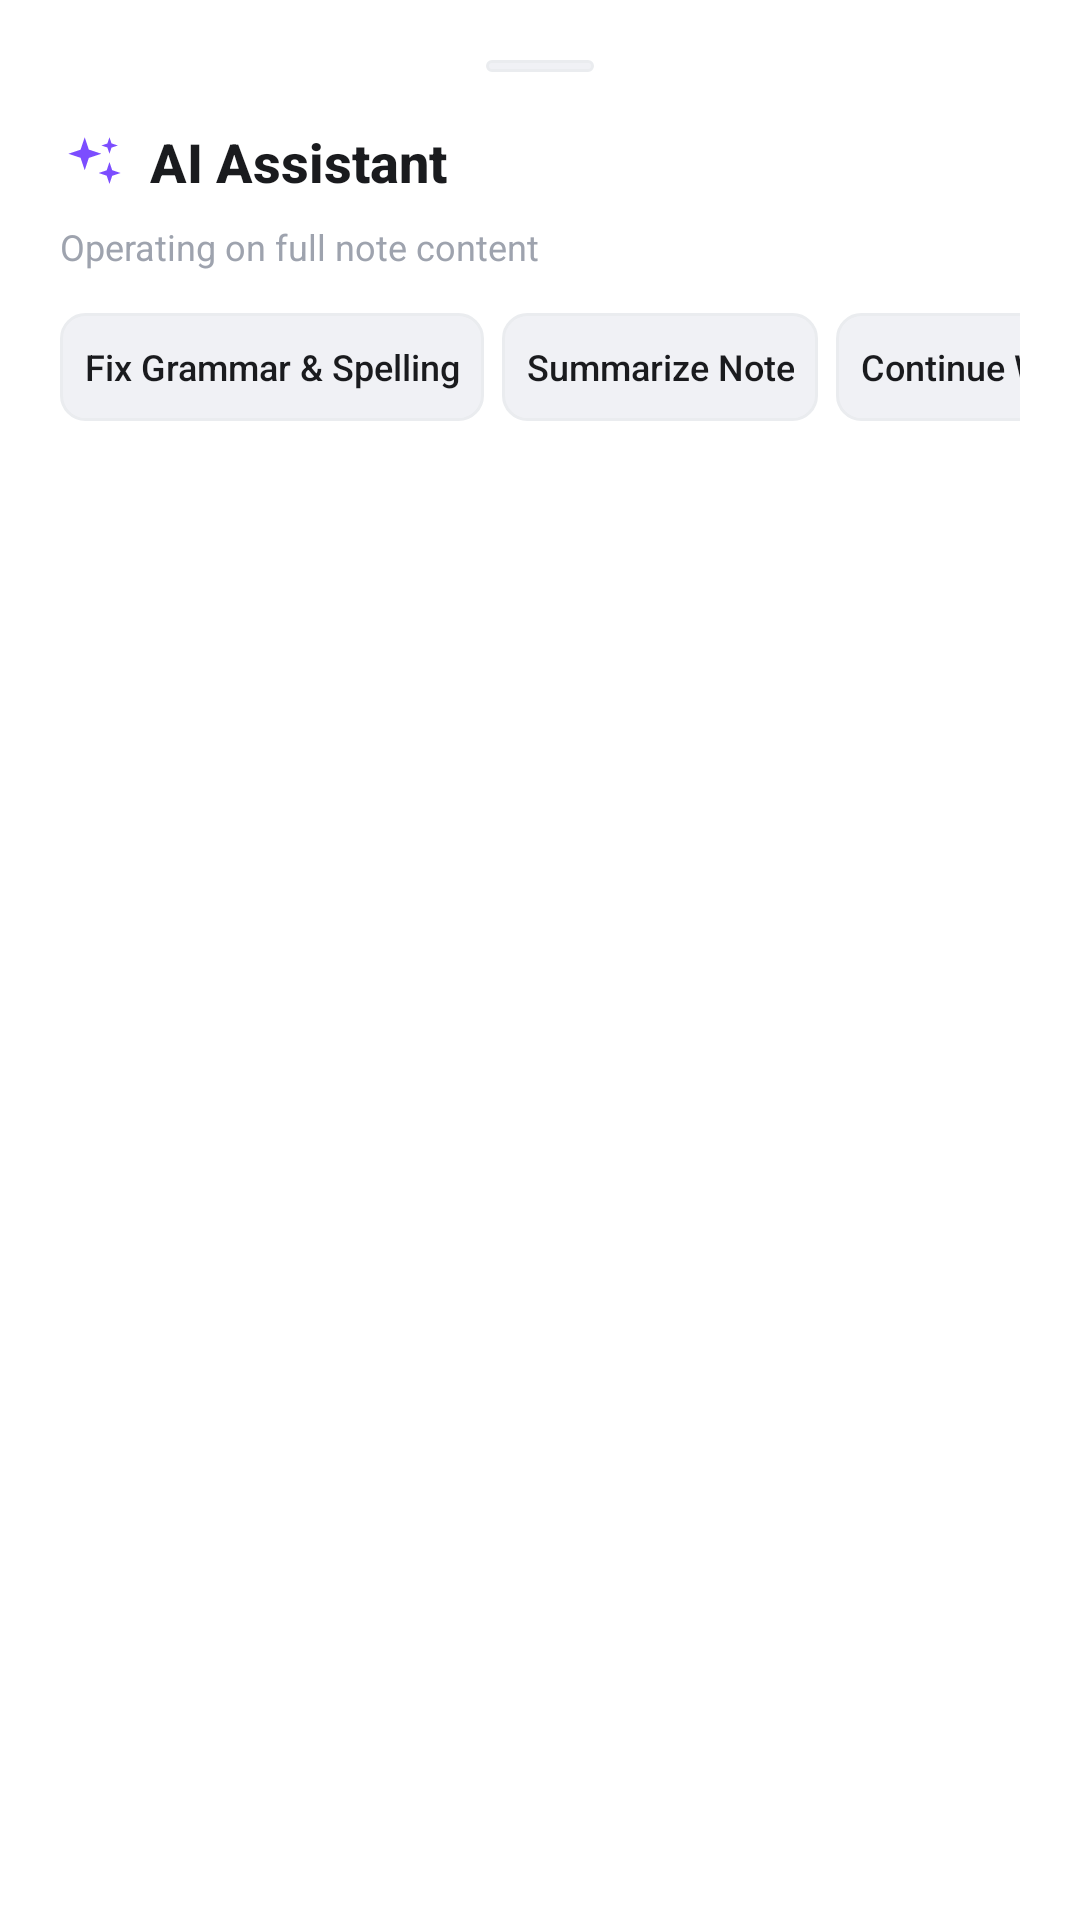

Screen size 1080px x 1920px. Icon name, then its center in pixels as (x,y):
ai sparkle: (94,160)
